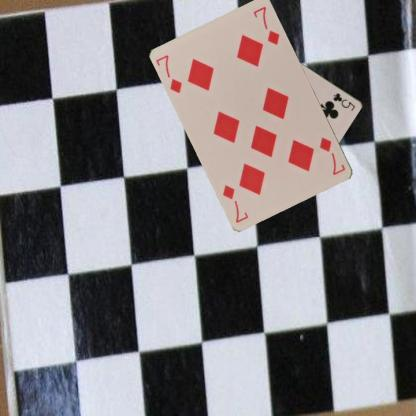5c: (331, 90, 357, 112)
7d: (154, 52, 184, 95), (317, 134, 347, 176)
